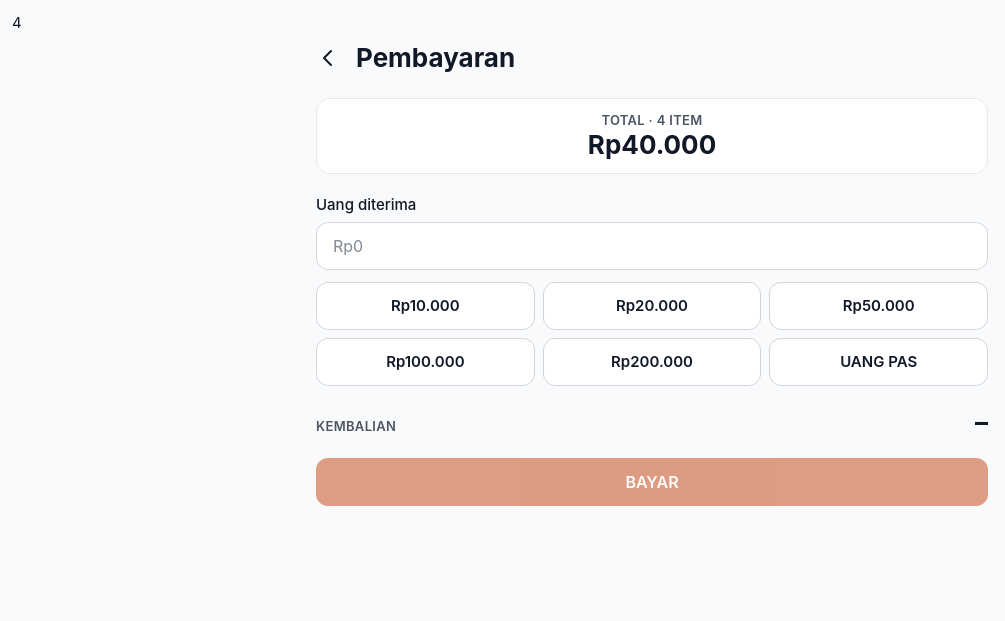
Test case: PaymentForm (UI_SPEC A.12–A.13, TEST_PLAN G.4) › total 40000, paid 30000 → "Uang pembayaran kurang Rp10.000" and Bayar disabled (AC-05)
The width and height of the screenshot is (1005, 621).
Expected: the text "Rp40.000" is shown, [588, 129, 716, 160]
In the field labelled "Uang diterima": (652, 246) [316, 222, 988, 270], type "30000"
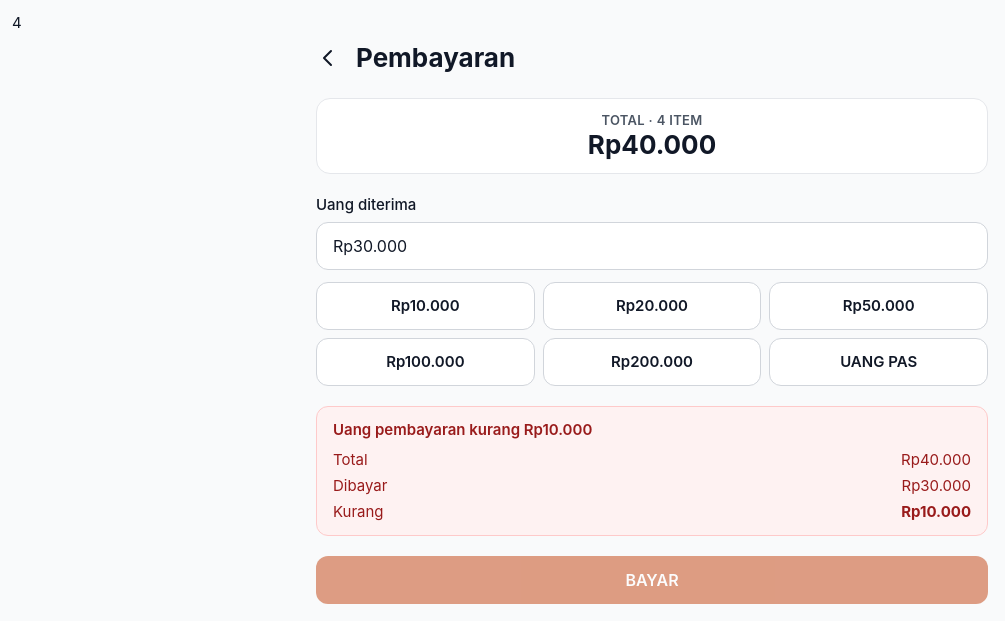
Expected: the button "BAYAR" is disabled, [316, 556, 988, 604]
Expected: the text "Rp30.000" is shown, [902, 475, 971, 497]
Expected: the text "Rp10.000" is shown, [901, 501, 971, 523]
